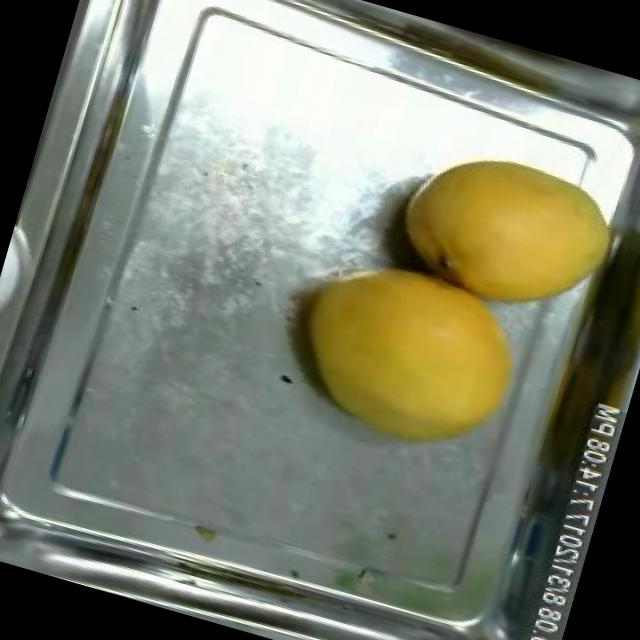fruit: (260, 225, 548, 480), (374, 120, 638, 342)
